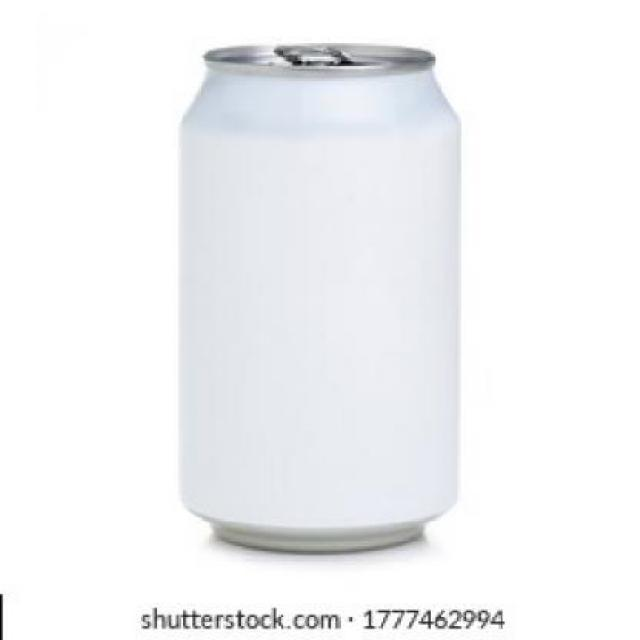non-organic waste: (157, 32, 480, 574)
